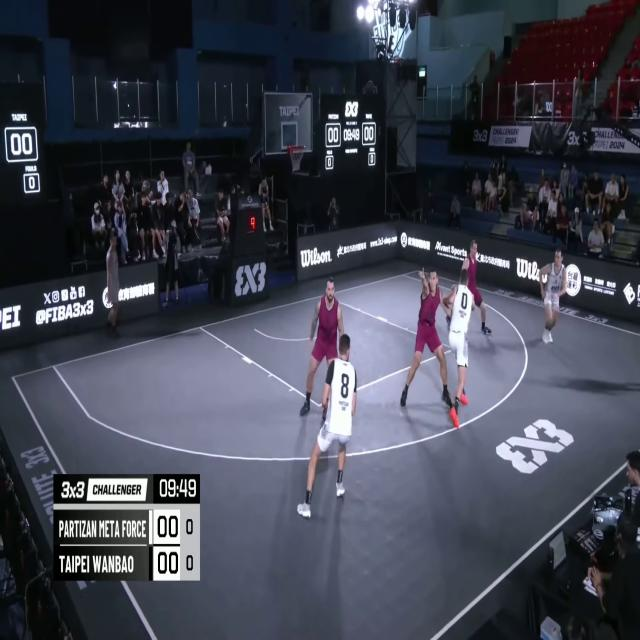hoop: (288, 141, 304, 177)
player: (298, 336, 353, 515), (403, 268, 453, 412), (301, 277, 342, 417), (441, 268, 476, 430), (454, 240, 492, 349), (536, 246, 570, 344)
